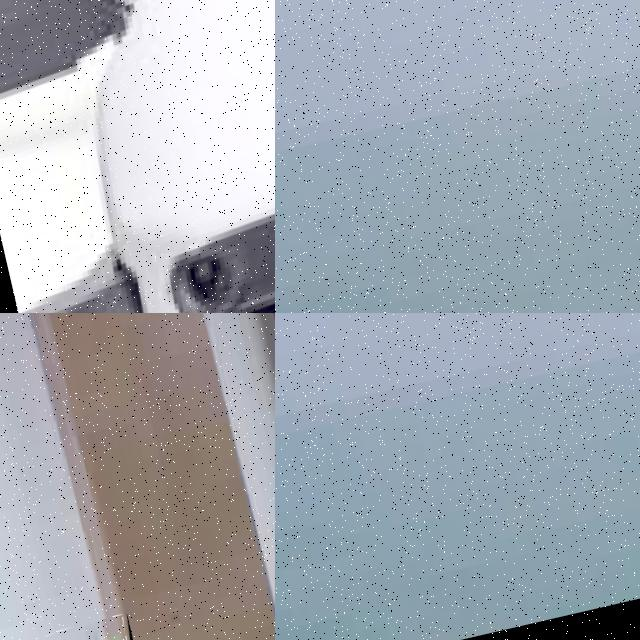0: (45, 613, 151, 640)
drone: (0, 0, 275, 313)
